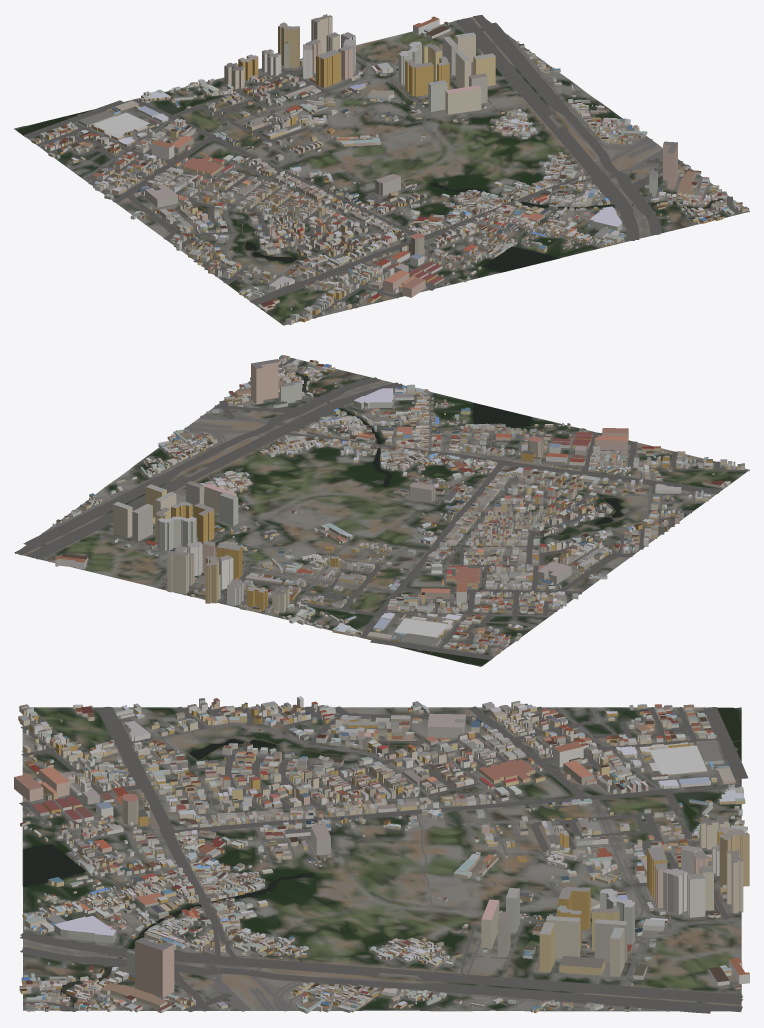
The picture shows the model from 3 angles, top to bottom: view 1: azimuth 30°, elevation 25°; view 2: azimuth 150°, elevation 25°; view 3: azimuth 270°, elevation 25°; orthographic projection. The views are drawn at different scales.
Parts seen in each view (by area): view 1: buildings, ground, roads, water; view 2: buildings, ground, roads, water; view 3: buildings, ground, roads, water.
Boxes of the visible parts, x1=… form: buildings: x1=31, y1=14, x2=749, y2=324; ground: x1=14, y1=15, x2=749, y2=325; roads: x1=23, y1=15, x2=748, y2=324; water: x1=17, y1=109, x2=733, y2=272; buildings: x1=49, y1=355, x2=744, y2=653; ground: x1=15, y1=358, x2=749, y2=666; roads: x1=14, y1=357, x2=748, y2=659; water: x1=285, y1=373, x2=623, y2=664; buildings: x1=14, y1=696, x2=749, y2=1013; ground: x1=22, y1=707, x2=741, y2=1011; roads: x1=19, y1=706, x2=748, y2=1013; water: x1=23, y1=707, x2=741, y2=1011.
Size of the model in its own units: 1427 by 112 by 1434.
